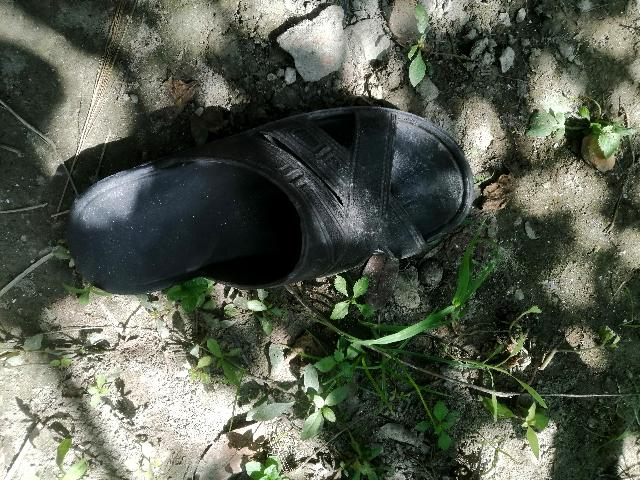sandal: (64, 70, 494, 317)
